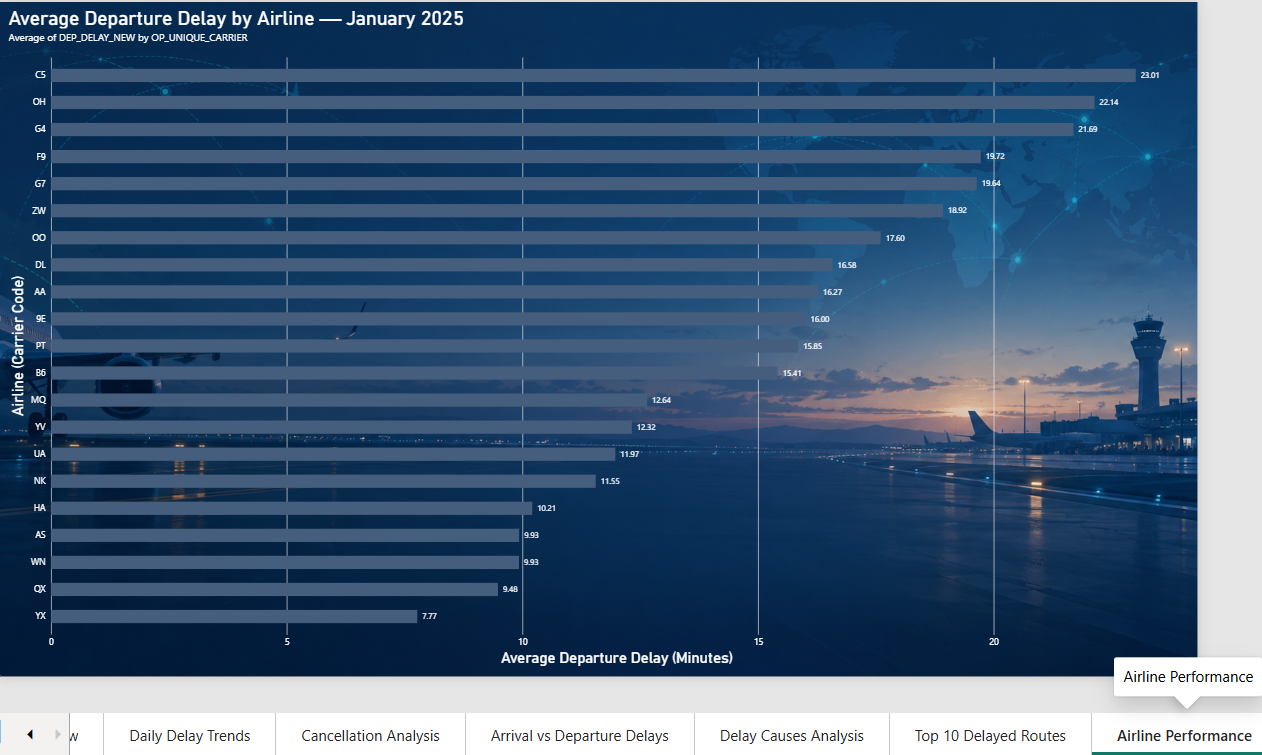

The dashboard page shown, as its layout file describes it:
{"tool":"powerbi","page":{"name":"Airline Performance","canvas":[1920,1080],"ordinal":6},"visuals":[{"type":"clusteredBarChart","title":"Average Departure Delay by Airline — January 2025","fields":{"Category":["flight_operations_january_2025_clean.OP_UNIQUE_CARRIER"],"Y":["Avg(flight_operations_january_2025_clean.DEP_DELAY_NEW)"]},"box":[0,-8,1920,1088],"z":0}]}

Visuals, with their boxes on the page's 1920x1080 design canvas (x1, y1, x2, y2). These are canvas units, not pixel positions in the 1262x755 screenshot, which may show the page scaled, cropped or inside an application window:
"Average Departure Delay by Airline — January 2025" clusteredBarChart: [x1=0, y1=-8, x2=1920, y2=1080]
